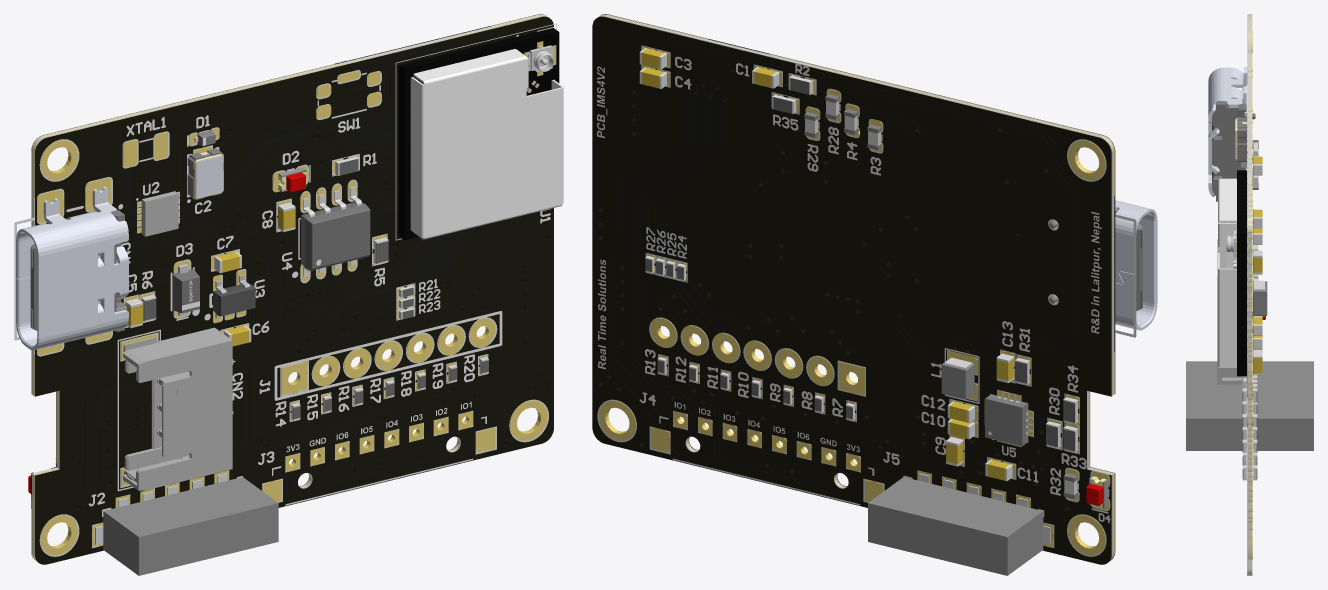
The model's file is IMS4V2.glb.
The picture shows the model from 3 angles, left to right: view 1: azimuth 30°, elevation 25°; view 2: azimuth 150°, elevation 25°; view 3: azimuth 270°, elevation 25°; orthographic projection. The views are drawn at different scales.
Visible parts, largest first — view 1: Solder_Top, ComponentBody.136, ComponentBody.175, ComponentBody.1, ComponentBody.3, Top, Core, ComponentBody.133, ComponentBody.141, J1, Pad.62, GND (+10 smaller); view 2: Solder_Bottom, ComponentBody.6, Bottom, Core, ComponentBody.1, J1, Pad.62, GND, ComponentBody.21, J4, ComponentBody.66, Solder_Top (+1 smaller); view 3: ComponentBody.6, ComponentBody.3, ComponentBody.136, Core, ComponentBody.133, ComponentBody.1, ComponentBody, GND, ComponentBody.175, ComponentBody.95, ComponentBody.66, ComponentBody.132 (+1 smaller).
Part boxes in pixels (x1,y1,x2,y2): Solder_Top: (35,16,553,564); ComponentBody.136: (410,49,563,239); ComponentBody.175: (123,327,232,490); ComponentBody.1: (16,186,128,350); ComponentBody.3: (103,477,278,575); Top: (14,23,556,517); Core: (32,14,548,561); ComponentBody.133: (399,28,559,240); ComponentBody.141: (301,202,370,270); J1: (281,318,495,394); Pad.62: (40,140,547,555); GND: (31,14,548,561); Solder_Bottom: (592,16,1111,564); ComponentBody.6: (868,477,1043,575); Bottom: (597,45,1110,523); Core: (597,14,1114,561); ComponentBody.1: (1115,200,1157,330); J1: (650,318,865,394); Pad.62: (598,140,1105,555); GND: (598,14,1114,561); ComponentBody.21: (985,394,1027,446); J4: (651,412,883,501); ComponentBody.66: (941,359,974,399); Solder_Top: (602,14,1115,557); ComponentBody.6: (1257,361,1313,450); ComponentBody.3: (1186,361,1245,450); ComponentBody.136: (1218,178,1236,367); Core: (1248,14,1251,575); ComponentBody.133: (1237,170,1246,376); ComponentBody.1: (1208,67,1247,196); ComponentBody: (1212,101,1255,201); GND: (1247,14,1252,575); ComponentBody.175: (1217,239,1247,384); ComponentBody.95: (1237,117,1246,161); ComponentBody.66: (1253,281,1267,315); ComponentBody.132: (1226,230,1236,257).
Bounding box in the file's own units: 4.39 × 3.3 × 1.07.
